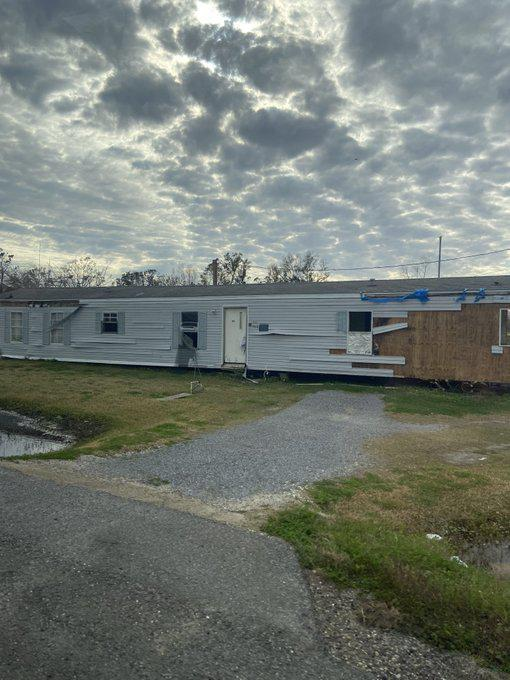minor: (8, 263, 510, 400)
